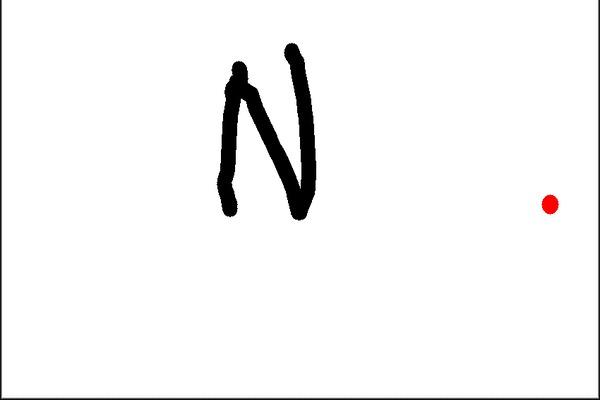N: (211, 37, 321, 224)
